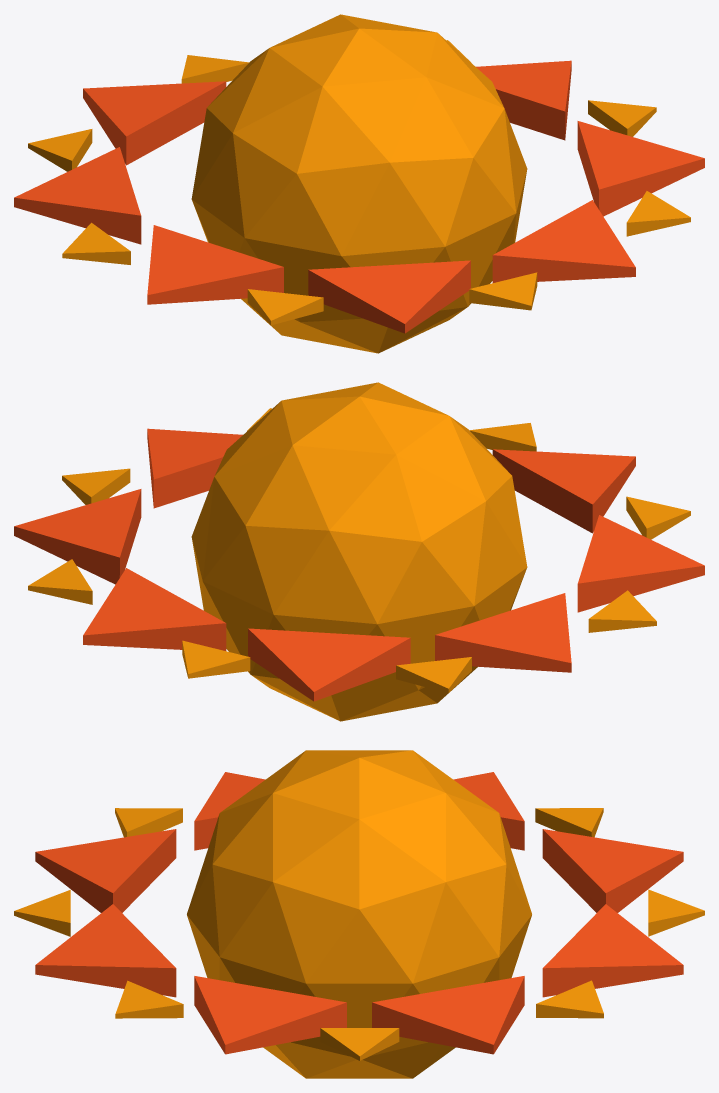
Rendered from Sun.glb.
3 renders of one model, top to bottom at view 1: azimuth 30°, elevation 25°; view 2: azimuth 150°, elevation 25°; view 3: azimuth 270°, elevation 25°, orthographic.
Visible parts, largest first — view 1: sun_01_Sphere; view 2: sun_01_Sphere; view 3: sun_01_Sphere.
Boxes of the visible parts, x1=… form: sun_01_Sphere: x1=14, y1=14, x2=704, y2=353; sun_01_Sphere: x1=14, y1=382, x2=704, y2=721; sun_01_Sphere: x1=14, y1=750, x2=704, y2=1078.
Size of the model in its own units: 102 by 51 by 102.
